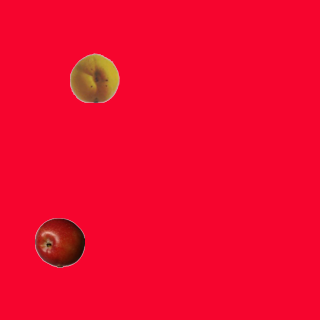Apple Braeburn: (34, 217, 84, 267)
Peach 2: (69, 52, 119, 102)
